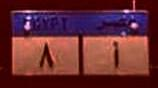8: (38, 42, 54, 68)
alif: (113, 41, 120, 68)
